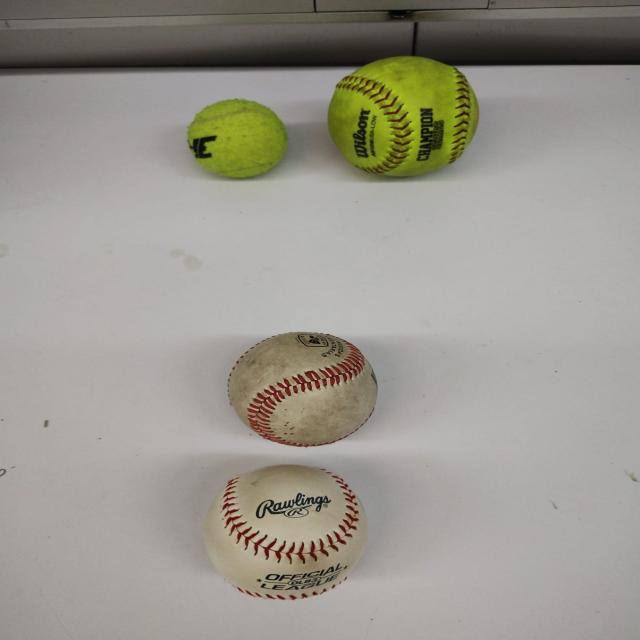beisbol ball: (203, 464, 370, 598), (226, 332, 380, 447)
softball ball: (328, 55, 478, 176)
tenis ball: (186, 98, 288, 178)
